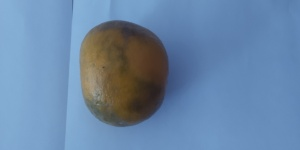BAD: (76, 20, 171, 128)
